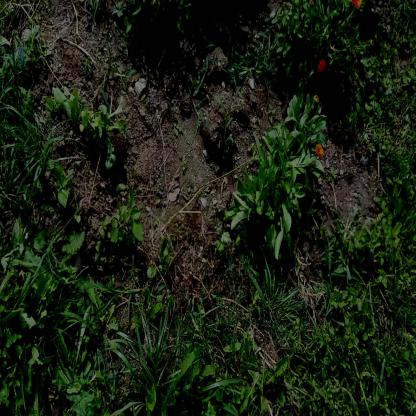marigold: (316, 58, 326, 74)
